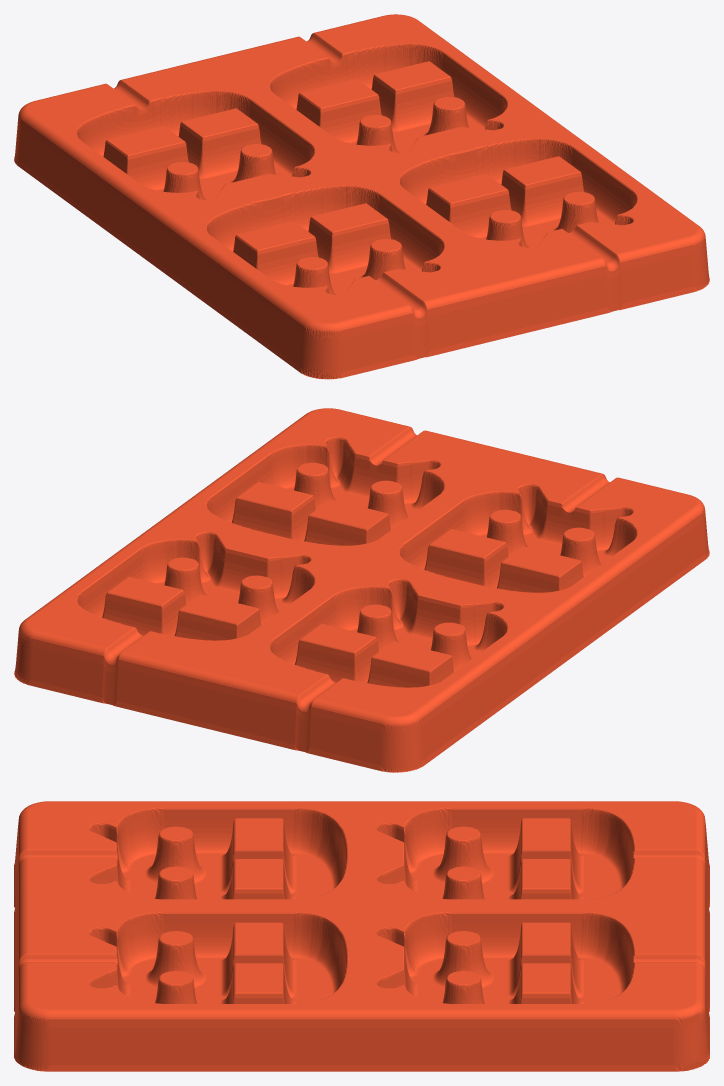
File: mold.glb
The picture shows the model from 3 angles, top to bottom: view 1: azimuth 30°, elevation 25°; view 2: azimuth 150°, elevation 25°; view 3: azimuth 270°, elevation 25°; orthographic projection. The views are drawn at different scales.
Visible parts, largest first — view 1: geometry_0; view 2: geometry_0; view 3: geometry_0.
Boxes of the visible parts, left/top/right/bottom form: geometry_0: left=14, top=14, right=709, bottom=379; geometry_0: left=14, top=408, right=709, bottom=772; geometry_0: left=14, top=801, right=709, bottom=1071.
Size of the model in its own units: 0.1294 by 0.0155 by 0.1735.
